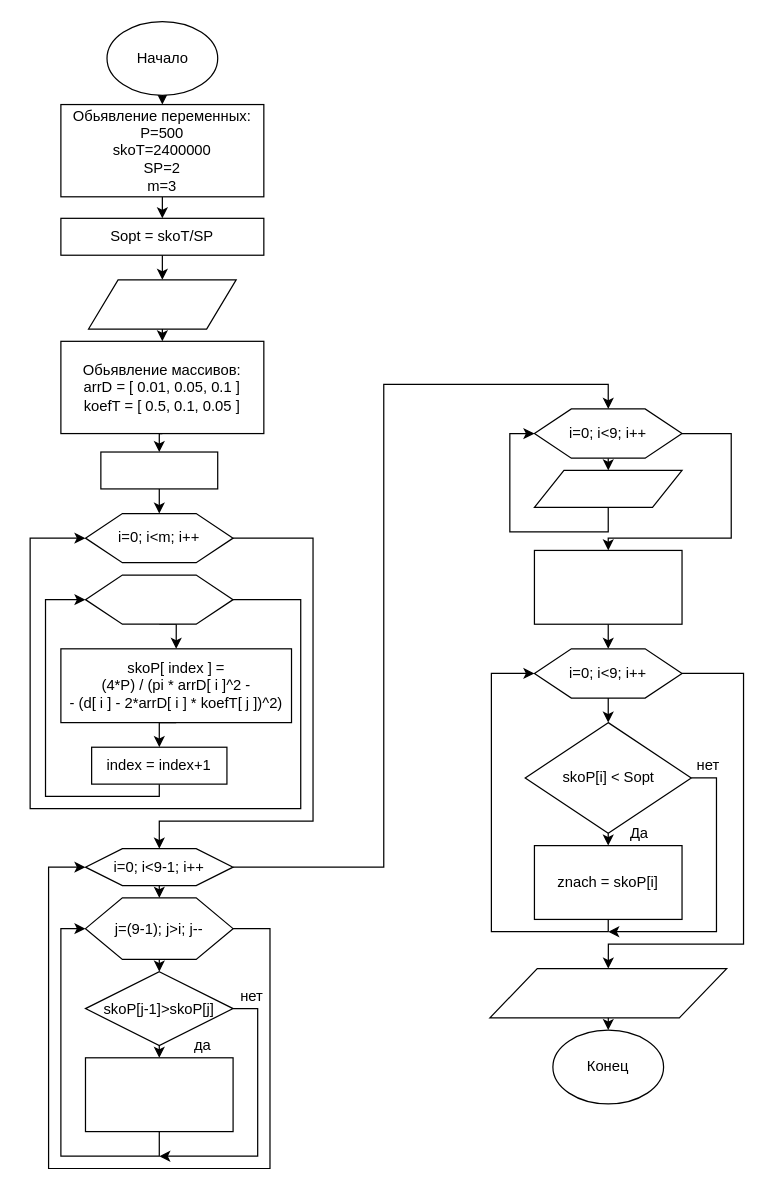
This 775x1200 diagram has some shape labels left out. Each missing label, with the centre of its shape:
index = 0: (159,470)
j=0; j<m; j++: (158,599)
skoP[ i ]: (607,488)
temp = skoP[j-1] skoP[j-1]=skoP[j] skoP[j]=temp: (158,1094)
znach = 0: (607,586)
Вывод: Sopt: (161,304)
Вывод; znach: (608,992)
